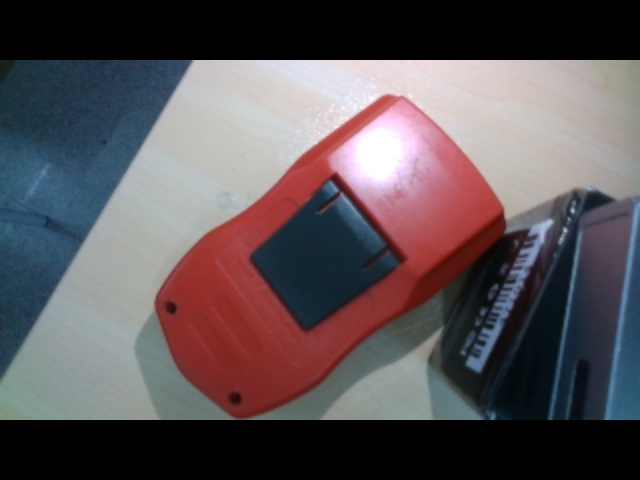Screw holes: (224, 389, 246, 407), (163, 300, 178, 315)
